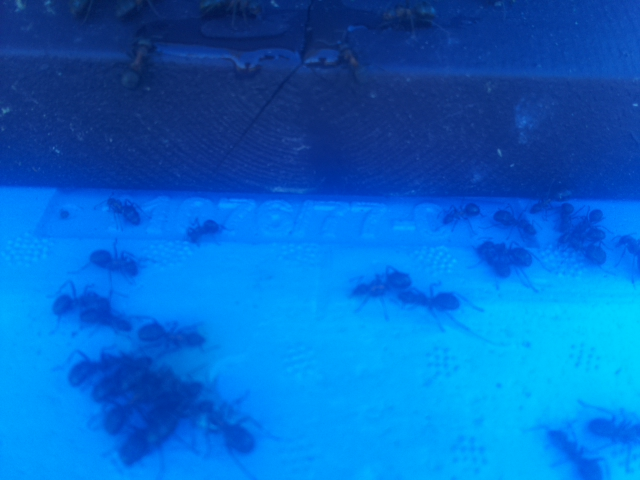ant: (109, 12, 170, 102), (183, 399, 253, 457), (554, 205, 615, 263), (97, 192, 148, 231)
